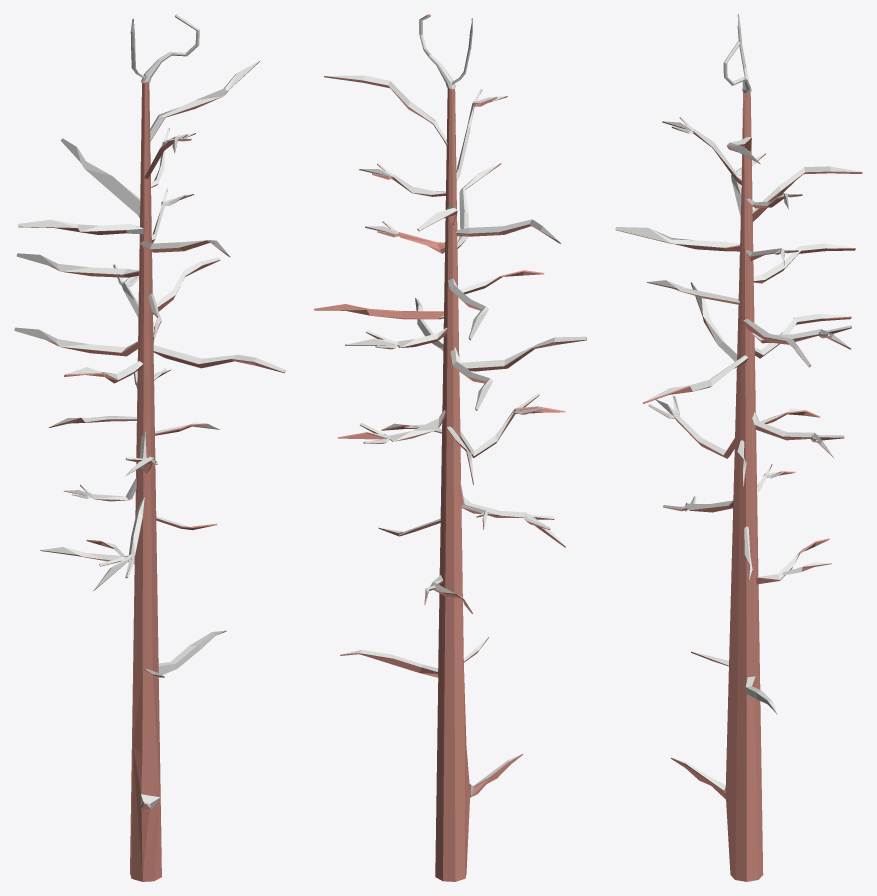
Rendered from Drzewo_bez_lisci_snieg.fbx.
3 views of the same model, side by side, from view 1: azimuth 30°, elevation 25°; view 2: azimuth 150°, elevation 25°; view 3: azimuth 270°, elevation 25° (orthographic).
Parts seen in each view (by area): view 1: Drzewo_bez_lisci_snieg_LOD0; view 2: Drzewo_bez_lisci_snieg_LOD0; view 3: Drzewo_bez_lisci_snieg_LOD0.
Boxes of the visible parts, x1,y1,x2,y2 form: Drzewo_bez_lisci_snieg_LOD0: (14,14,285,881); Drzewo_bez_lisci_snieg_LOD0: (314,14,586,881); Drzewo_bez_lisci_snieg_LOD0: (615,14,862,881).
Size of what is drawn, in the model's own units: 215 by 738 by 194.
